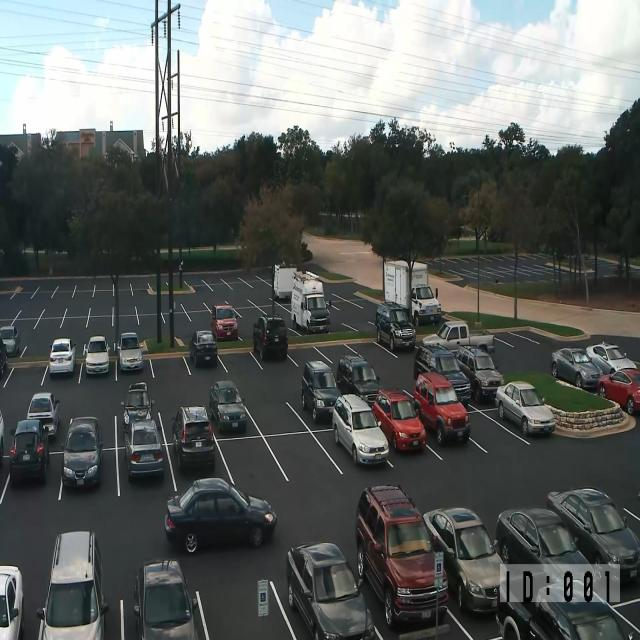car: (355, 483, 449, 629), (494, 506, 594, 605), (422, 506, 507, 616), (496, 575, 640, 639), (546, 486, 640, 584), (286, 541, 375, 639), (164, 477, 277, 554), (36, 530, 109, 639), (133, 558, 199, 640), (528, 598, 638, 640), (413, 371, 471, 446), (332, 393, 389, 466), (413, 344, 471, 408), (372, 388, 427, 452), (495, 381, 556, 436), (61, 415, 103, 489), (454, 344, 504, 403), (172, 404, 216, 470), (9, 418, 49, 483), (422, 319, 495, 354), (301, 360, 342, 422), (124, 418, 164, 480), (336, 354, 381, 408), (550, 347, 603, 391), (597, 367, 640, 415), (375, 301, 416, 351), (209, 380, 247, 432), (0, 564, 24, 640), (121, 381, 154, 433), (586, 341, 637, 374), (252, 314, 288, 360), (26, 392, 60, 439), (411, 283, 441, 327), (116, 332, 144, 372), (189, 329, 218, 367), (83, 335, 110, 375), (211, 303, 238, 342), (49, 337, 76, 375), (0, 325, 20, 356), (0, 337, 7, 377), (0, 409, 4, 467)
